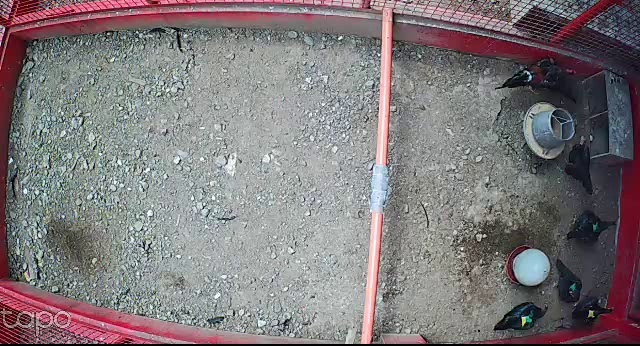Chicken: (559, 206, 621, 249), (555, 135, 593, 198), (490, 299, 547, 332), (565, 295, 618, 330), (550, 258, 583, 304)
Feeder: (521, 103, 574, 160)
Rooster: (491, 55, 577, 96)
Saddle_Color_Yellow: (587, 308, 595, 320)
Saddle_Color_YellowGreen: (520, 314, 532, 327)
